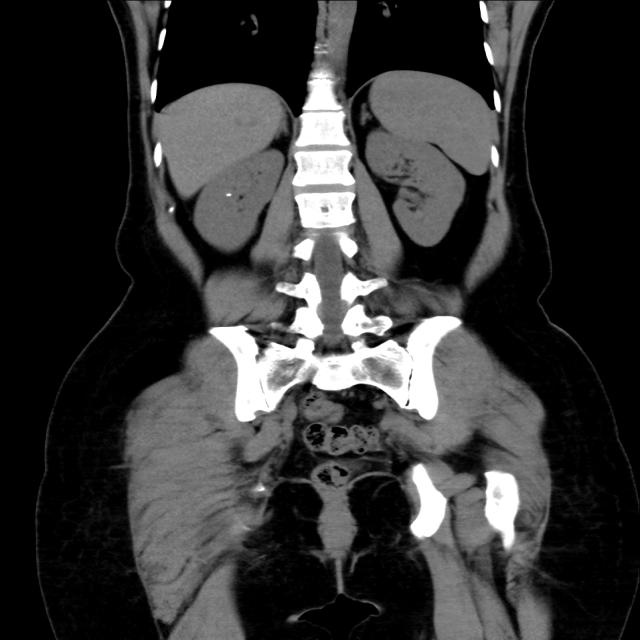kidneystone: (226, 192, 233, 198)
